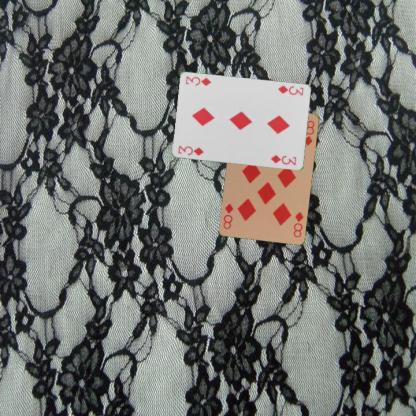3d: (175, 143, 205, 157), (275, 83, 305, 97)
8d: (290, 209, 304, 239)
